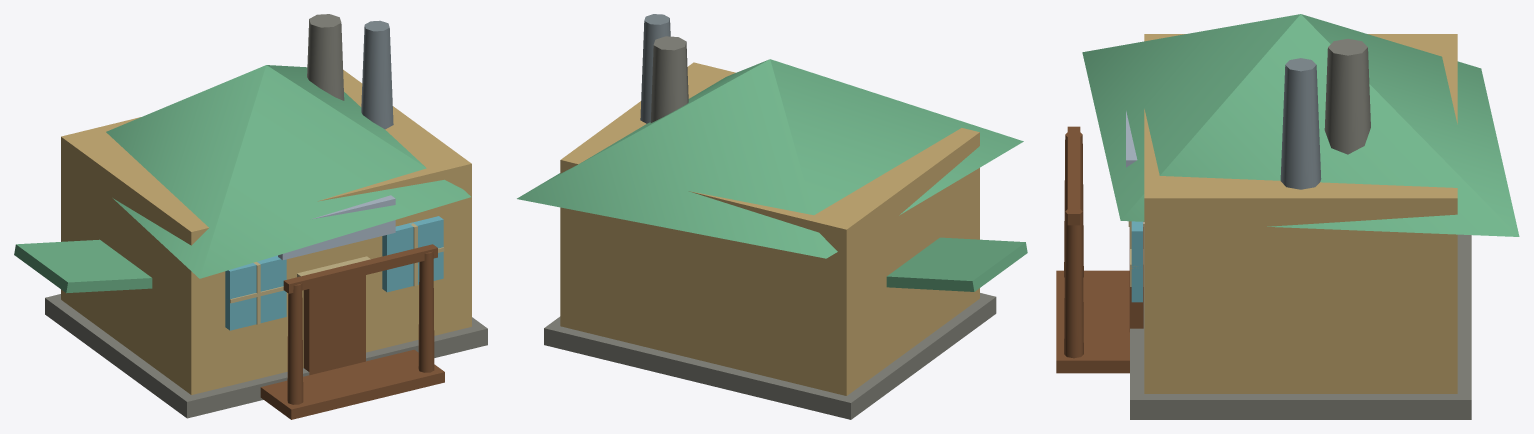
The model's file is tailor.glb.
3 renders of one model, left to right at view 1: azimuth 30°, elevation 25°; view 2: azimuth 150°, elevation 25°; view 3: azimuth 270°, elevation 25°, orthographic. The views are drawn at different scales.
Parts seen in each view (by area): view 1: tailor_body, tailor_roof, tailor_foundation, porch, door, workshop_side_awning, window_left, workshop_stack, chimney, window_right, porch_beam, porch_post_145 (+2 smaller); view 2: tailor_body, tailor_roof, tailor_foundation, workshop_side_awning, chimney, workshop_stack; view 3: tailor_body, tailor_roof, tailor_foundation, porch, chimney, workshop_stack, porch_post_145, porch_beam, window_right, porch_post_-145, door.
Boxes of the visible parts, bbox=[...] form: tailor_body: bbox=[61, 70, 471, 394]; tailor_roof: bbox=[106, 65, 470, 278]; tailor_foundation: bbox=[45, 294, 487, 418]; porch: bbox=[260, 349, 444, 419]; door: bbox=[303, 275, 365, 375]; workshop_side_awning: bbox=[14, 239, 152, 293]; window_left: bbox=[225, 255, 286, 330]; workshop_stack: bbox=[361, 20, 393, 129]; chimney: bbox=[307, 14, 344, 100]; window_right: bbox=[382, 216, 443, 292]; porch_beam: bbox=[283, 244, 437, 293]; porch_post_145: bbox=[418, 251, 434, 372]; tailor_body: bbox=[560, 62, 979, 395]; tailor_roof: bbox=[517, 59, 1023, 258]; tailor_foundation: bbox=[544, 293, 996, 419]; workshop_side_awning: bbox=[886, 237, 1027, 291]; chimney: bbox=[650, 36, 688, 122]; workshop_stack: bbox=[640, 14, 670, 123]; tailor_body: bbox=[1144, 34, 1457, 393]; tailor_roof: bbox=[1082, 14, 1519, 236]; tailor_foundation: bbox=[1130, 224, 1471, 419]; porch: bbox=[1056, 270, 1129, 373]; chimney: bbox=[1324, 38, 1370, 154]; workshop_stack: bbox=[1280, 58, 1321, 189]; porch_post_145: bbox=[1064, 209, 1083, 358]; porch_beam: bbox=[1067, 126, 1080, 225]; window_right: bbox=[1131, 221, 1142, 302]; porch_post_-145: bbox=[1064, 132, 1083, 277]; door: bbox=[1129, 227, 1143, 331].
Size of what is drawn, in the model's own units: 8.49 by 5.86 by 7.39.
